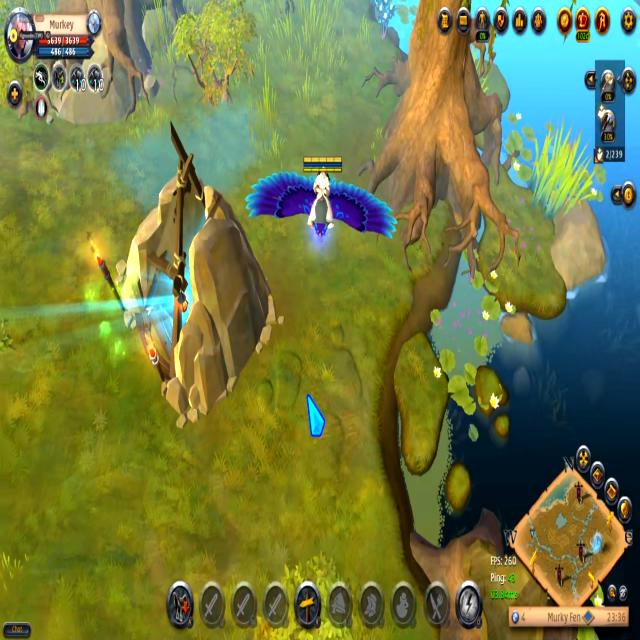red: (242, 148, 398, 254)
